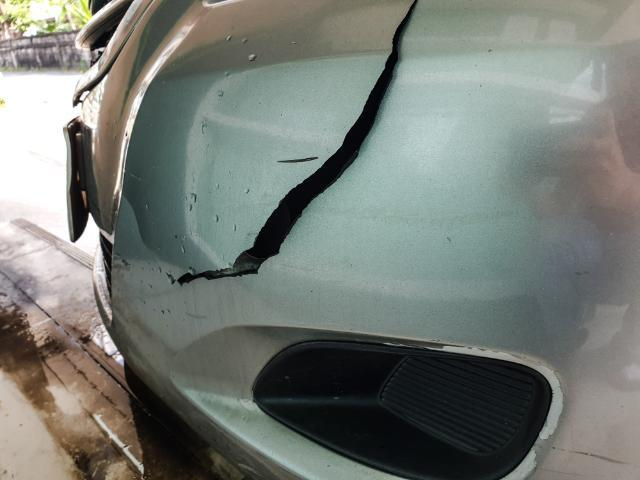crack: (176, 0, 422, 287)
